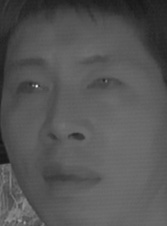eye: (85, 73, 124, 97), (11, 76, 51, 99)
mouth: (36, 161, 107, 195)
